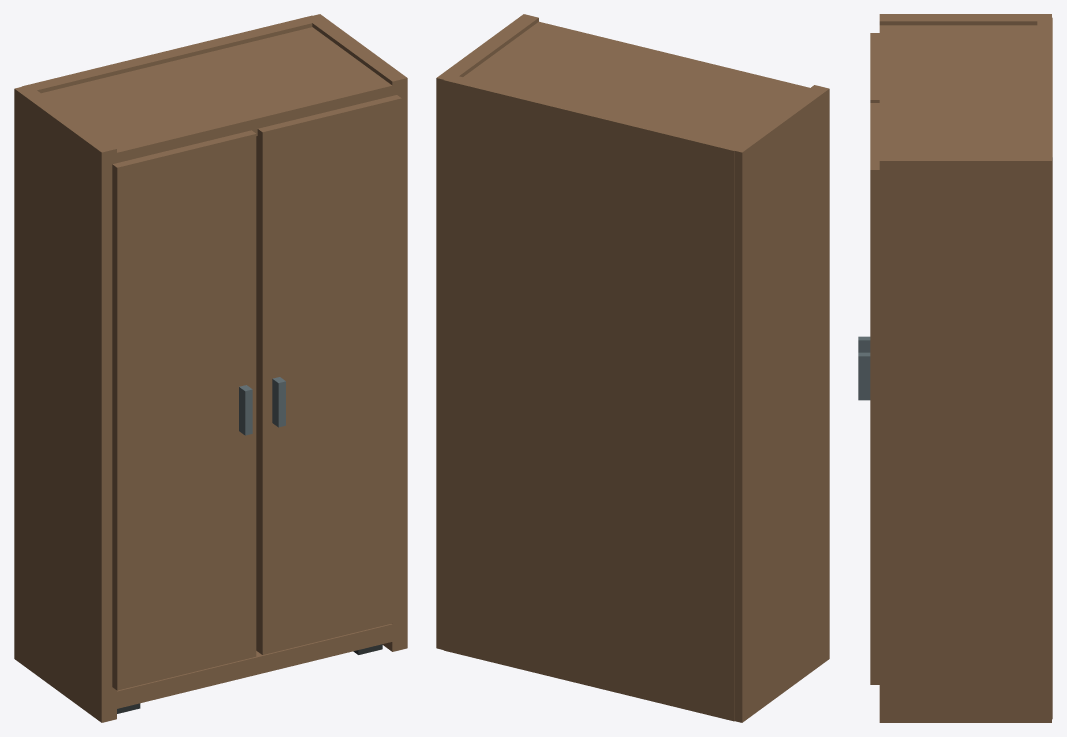
File: cabinet.glb
3 renders of one model, left to right at view 1: azimuth 30°, elevation 25°; view 2: azimuth 150°, elevation 25°; view 3: azimuth 270°, elevation 25°, orthographic.
Parts seen in each view (by area): view 1: Двухстворчатый шкаф; view 2: Двухстворчатый шкаф; view 3: Двухстворчатый шкаф.
Part boxes in pixels (bbox=[...]): Двухстворчатый шкаф: bbox=[14, 14, 407, 722]; Двухстворчатый шкаф: bbox=[436, 14, 829, 722]; Двухстворчатый шкаф: bbox=[858, 14, 1052, 722].
Size of the model in its own units: 1.01 by 1.8 by 0.565.
